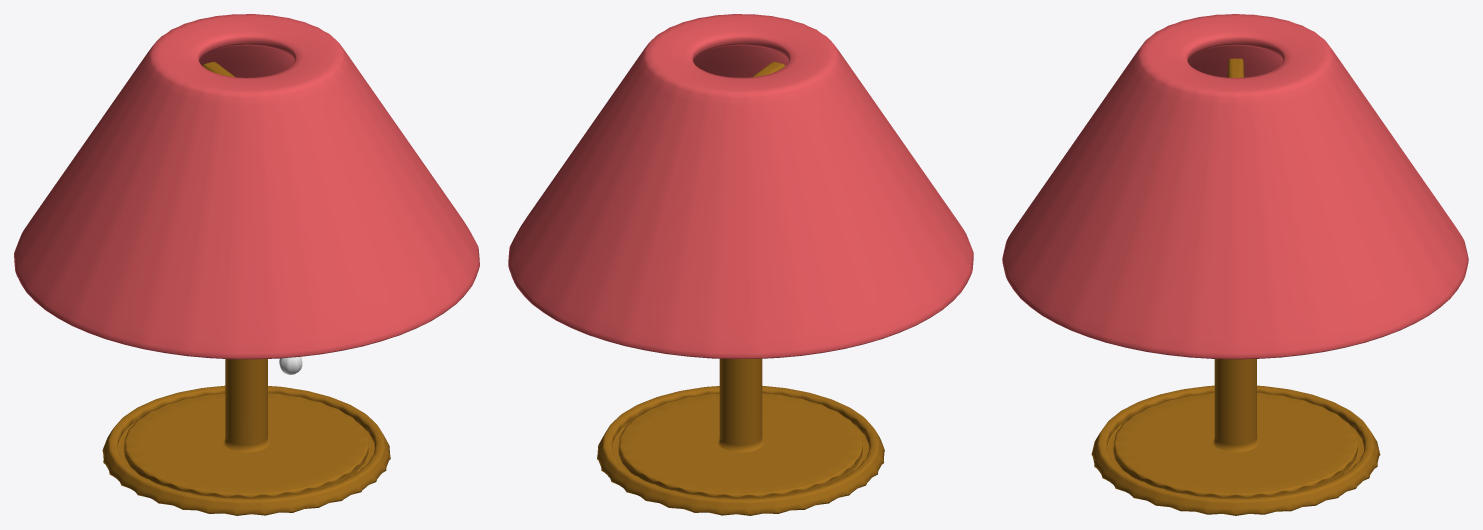
File: Lamp_model.fbx
3 views of the same model, side by side, from view 1: azimuth 30°, elevation 25°; view 2: azimuth 150°, elevation 25°; view 3: azimuth 270°, elevation 25° (orthographic).
Visible parts, largest first — view 1: Circle.001, Circle; view 2: Circle.001, Circle; view 3: Circle.001, Circle.
Boxes of the visible parts, x1,y1,x2,y2 form: Circle.001: (14,14,479,359); Circle: (102,61,390,515); Circle.001: (508,14,973,359); Circle: (597,61,884,515); Circle.001: (1002,14,1468,359); Circle: (1091,58,1380,515).
Bounding box in the file's own units: 116 × 110 × 116.
